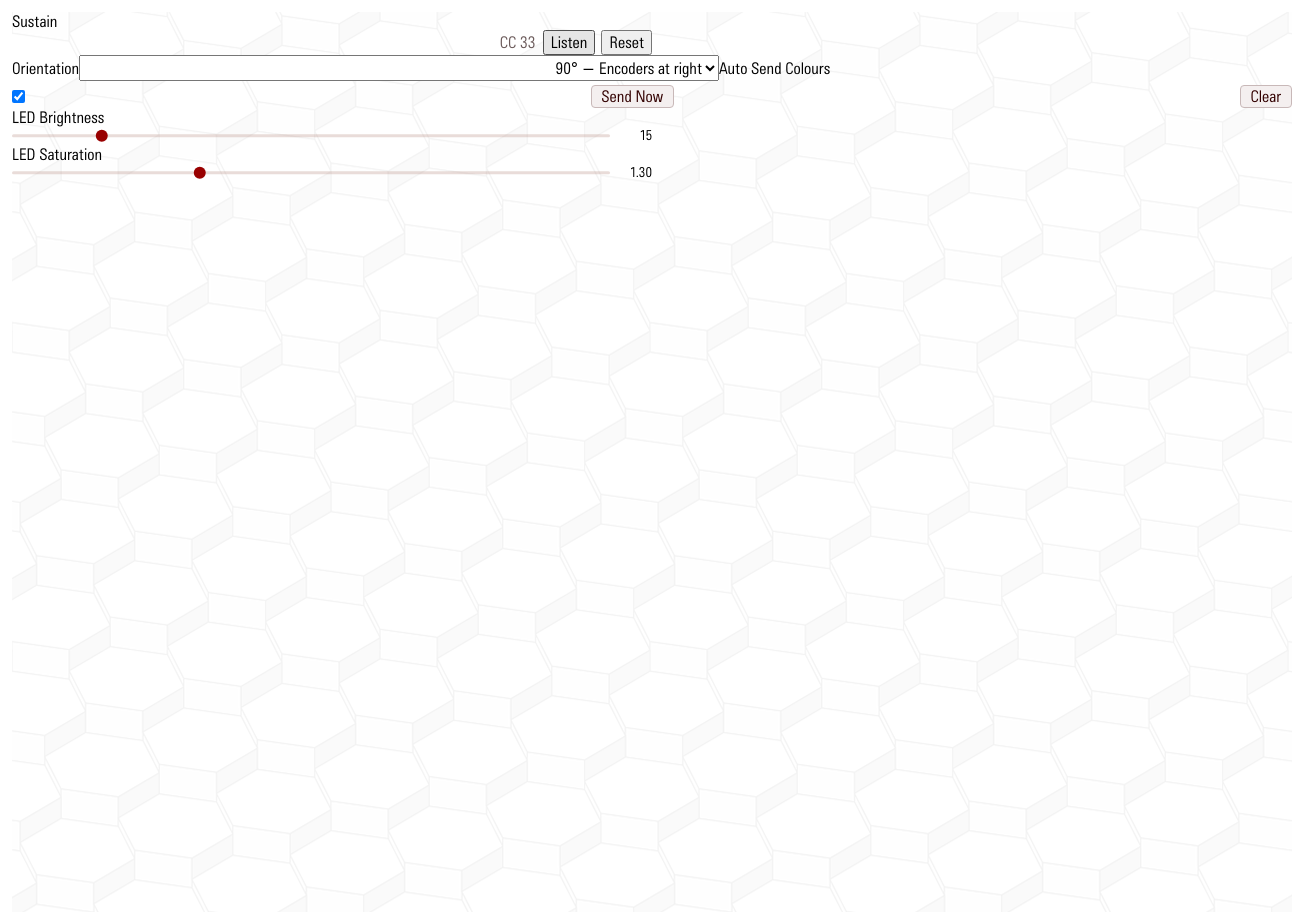
Test case: ExquisSettings › commits and saves orientation only after the driver allows it
The image size is (1304, 912).
Select "0° — Encoders at top" in the dropdown labelled "Orientation" at (399, 68), box [79, 55, 719, 81]
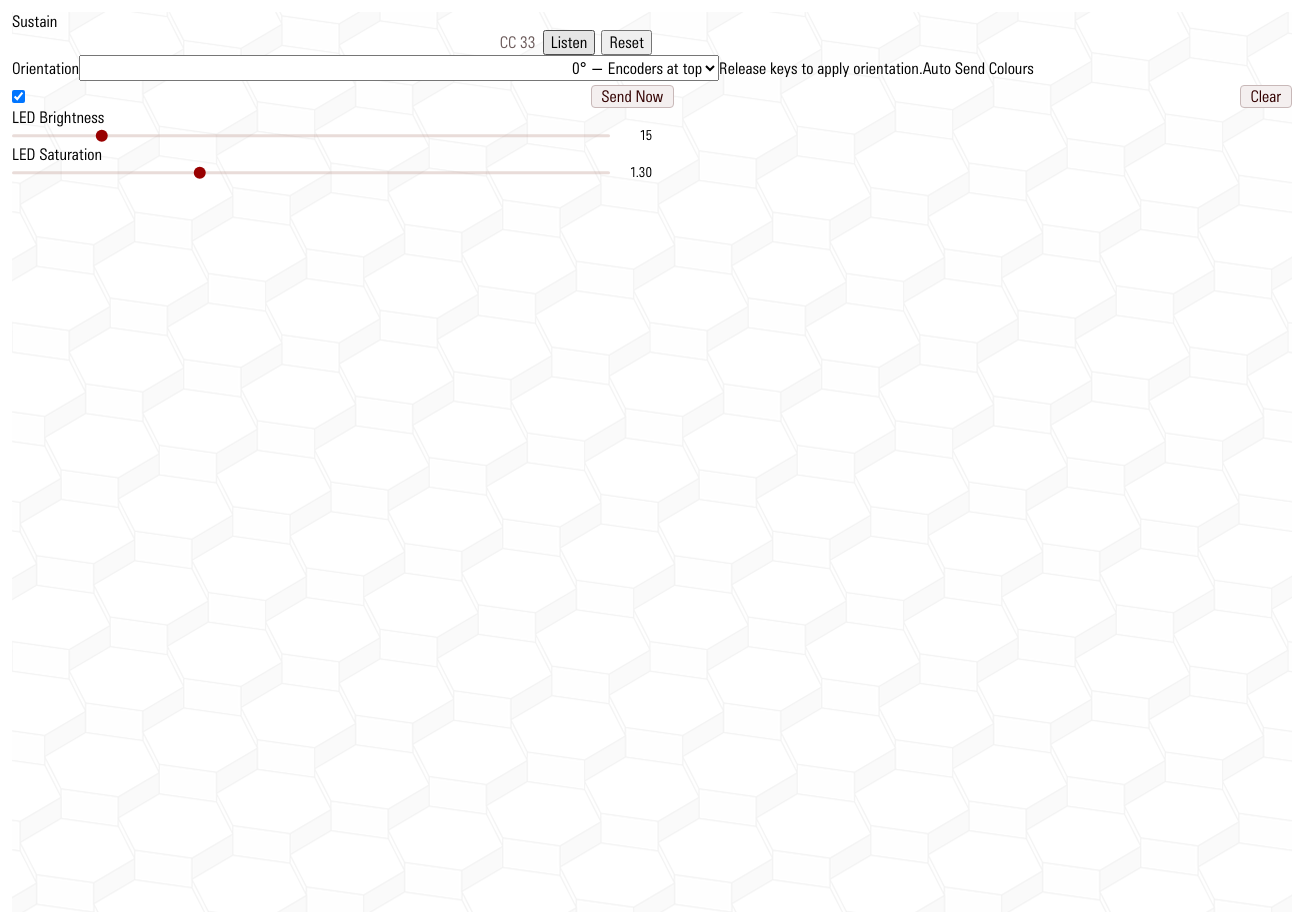
Now the message shows "Release keys", box [719, 57, 923, 79]
